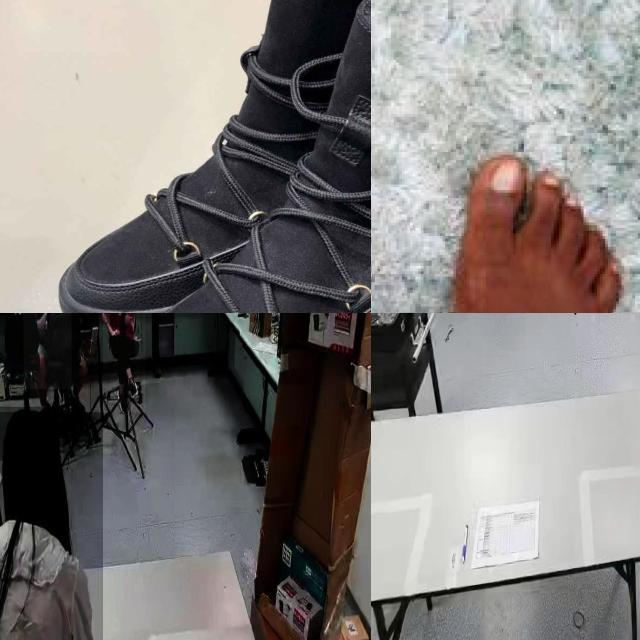Sandals: (42, 0, 371, 313)
hand_noglove: (109, 326, 120, 336)
head_nohelmet: (0, 407, 60, 462)
person: (0, 412, 103, 640), (103, 313, 146, 413), (23, 313, 72, 390)
